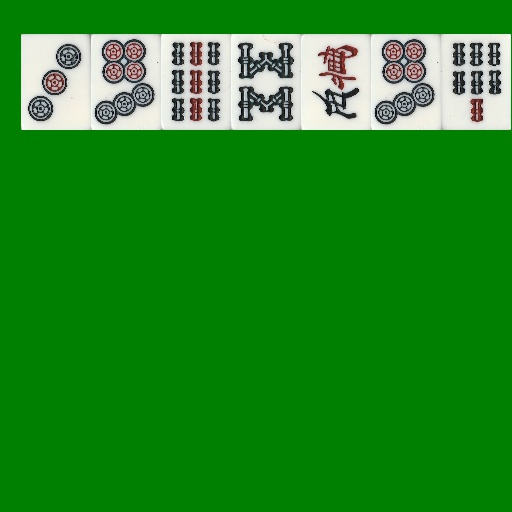3p: (21, 34, 91, 130)
5m: (301, 34, 371, 130)
7p: (91, 34, 161, 130), (371, 34, 441, 130)
7s: (441, 34, 511, 130)
8s: (231, 34, 301, 130)
9s: (161, 34, 231, 130)
